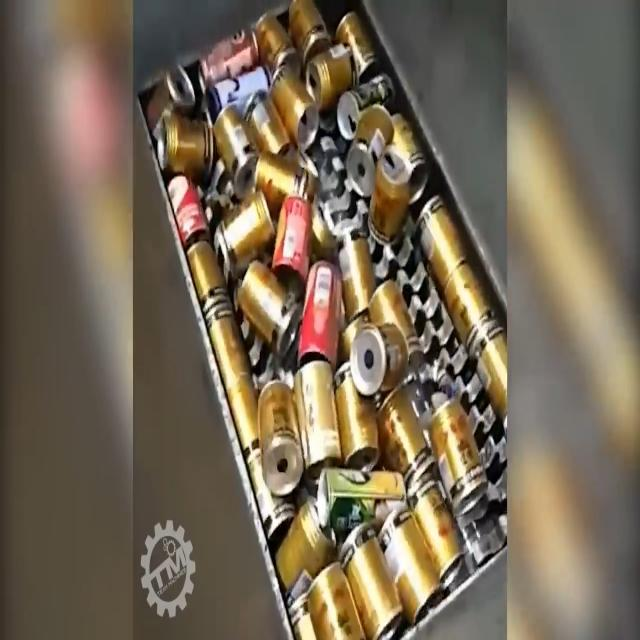Broyeur: (188, 82, 508, 588)
